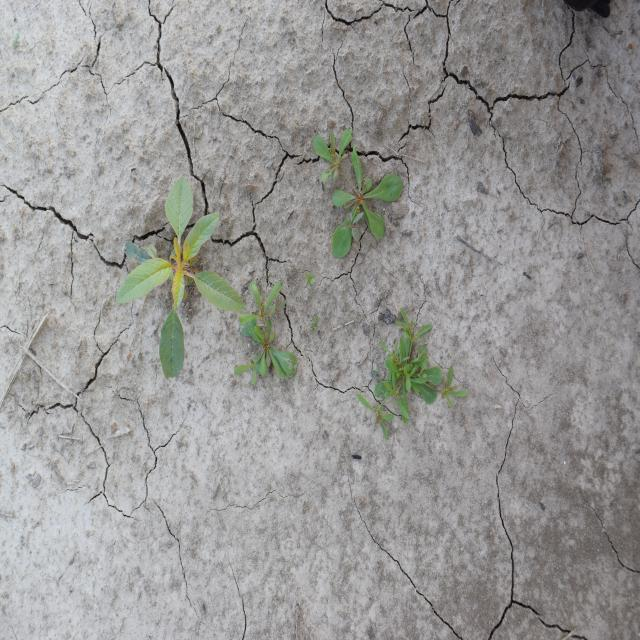Carpetweed: (357, 307, 470, 441), (310, 123, 405, 261), (234, 277, 299, 388)
Waterhemp: (114, 174, 246, 380)
